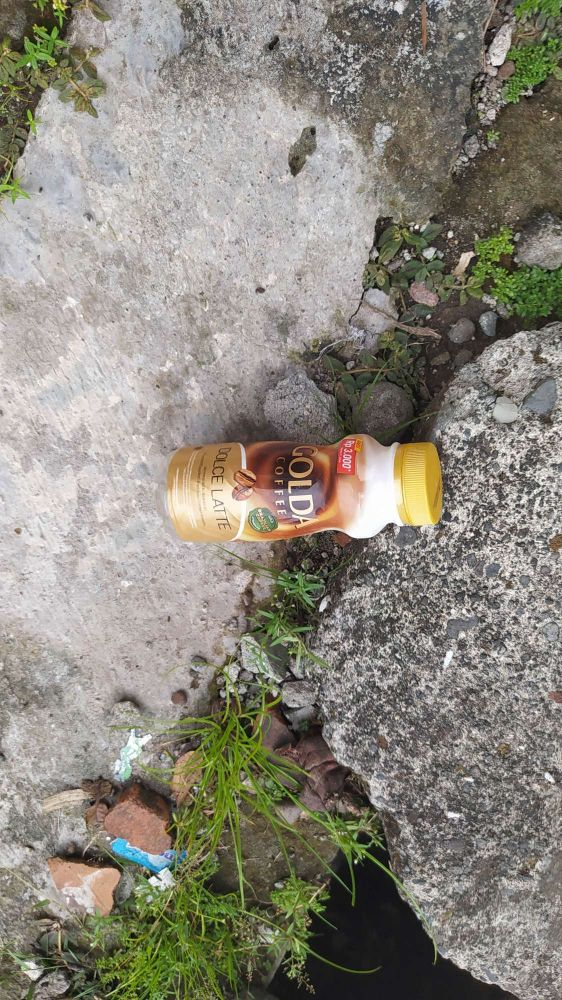botol: (145, 422, 456, 550)
